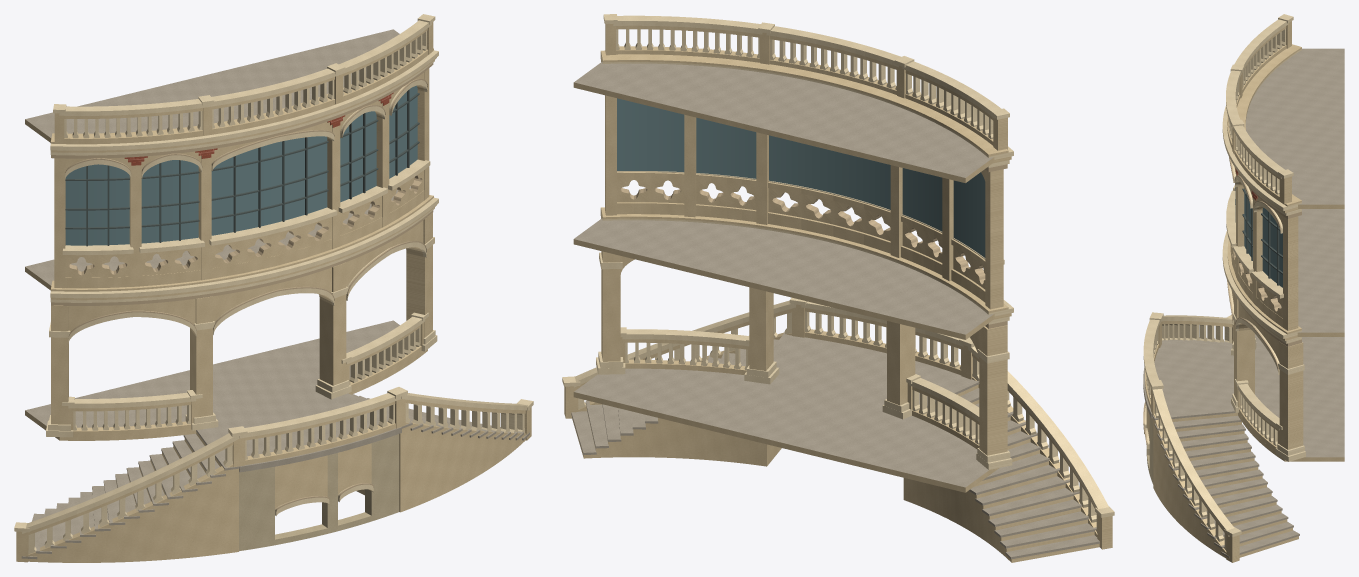
The model's file is raw.glb.
3 views of the same model, side by side, from view 1: azimuth 30°, elevation 25°; view 2: azimuth 150°, elevation 25°; view 3: azimuth 270°, elevation 25° (orthographic). The views are drawn at different scales.
Visible parts, largest first — view 1: 01_Basement_ceiling_and_arcade_floor, 06_west_stair.risers, 03_Open_roof_terrace, 21_Glazed_bay_02.glass, 04_Basement_front_piers, 06_east_stair.risers, 06_west_stair.treads, 21_Glazed_bay_00.glass, 21_Glazed_bay_01.glass, 06_west_stair.raking_rail.rails, 05_Landing_slab, 10_Arcade_pier_02 (+66 smaller); view 2: 01_Basement_ceiling_and_arcade_floor, 02_Loggia_ceiling_and_upper_floor, 03_Open_roof_terrace, 06_west_stair.treads, 06_west_stair.risers, 05_Landing_slab, 21_Glazed_bay_02.glass, 06_east_stair.risers, 21_Glazed_bay_04.glass, 10_Arcade_pier_00, 30_String_course_1.4, 06_east_stair.treads (+43 smaller); view 3: 03_Open_roof_terrace, 06_east_stair.treads, 01_Basement_ceiling_and_arcade_floor, 02_Loggia_ceiling_and_upper_floor, 06_east_stair.risers, 05_Landing_slab, 10_Arcade_pier_03, 06_east_stair.raking_rail.rails, 20_Upper_window_pier_05, 10_Arcade_pier_02, 06_west_stair.raking_rail.balusters, 30_String_course_1.4 (+30 smaller).
Part boxes in pixels (left/top/right/bottom): 01_Basement_ceiling_and_arcade_floor: left=25, top=320, right=427, bottom=440; 06_west_stair.risers: left=28, top=432, right=238, bottom=562; 03_Open_roof_terrace: left=25, top=29, right=399, bottom=142; 21_Glazed_bay_02.glass: left=211, top=136, right=327, bottom=235; 04_Basement_front_piers: left=239, top=434, right=399, bottom=551; 06_east_stair.risers: left=356, top=427, right=525, bottom=512; 06_west_stair.treads: left=21, top=428, right=239, bottom=559; 21_Glazed_bay_00.glass: left=65, top=164, right=129, bottom=245; 21_Glazed_bay_01.glass: left=141, top=160, right=198, bottom=243; 06_west_stair.raking_rail.rails: left=22, top=433, right=239, bottom=559; 05_Landing_slab: left=209, top=397, right=401, bottom=472; 10_Arcade_pier_02: left=315, top=262, right=351, bottom=399; 01_Basement_ceiling_and_arcade_floor: left=573, top=368, right=998, bottom=492; 02_Loggia_ceiling_and_upper_floor: left=573, top=218, right=994, bottom=339; 03_Open_roof_terrace: left=573, top=62, right=994, bottom=183; 06_west_stair.treads: left=919, top=378, right=1099, bottom=559; 06_west_stair.risers: left=903, top=384, right=1099, bottom=562; 05_Landing_slab: left=776, top=337, right=965, bottom=400; 21_Glazed_bay_02.glass: left=769, top=135, right=890, bottom=209; 06_east_stair.risers: left=572, top=410, right=781, bottom=466; 21_Glazed_bay_04.glass: left=617, top=98, right=684, bottom=172; 10_Arcade_pier_00: left=976, top=325, right=1012, bottom=469; 30_String_course_1.4: left=601, top=51, right=1008, bottom=156; 06_east_stair.treads: left=571, top=332, right=797, bottom=455; 03_Open_roof_terrace: left=1245, top=48, right=1344, bottom=208; 06_east_stair.treads: left=1152, top=406, right=1299, bottom=558; 01_Basement_ceiling_and_arcade_floor: left=1229, top=334, right=1344, bottom=461; 02_Loggia_ceiling_and_upper_floor: left=1277, top=209, right=1344, bottom=336; 06_east_stair.risers: left=1153, top=412, right=1298, bottom=558; 05_Landing_slab: left=1143, top=346, right=1233, bottom=418; 10_Arcade_pier_03: left=1275, top=342, right=1305, bottom=461; 06_east_stair.raking_rail.rails: left=1151, top=388, right=1234, bottom=553; 20_Upper_window_pier_05: left=1283, top=216, right=1298, bottom=330; 10_Arcade_pier_02: left=1231, top=294, right=1254, bottom=412; 06_west_stair.raking_rail.balusters: left=1162, top=324, right=1232, bottom=343; 30_String_course_1.4: left=1237, top=44, right=1301, bottom=206.
Bounding box in the file's own units: 16.42 × 12.5 × 6.35.
Materials: 9 (5 with a texture image).
